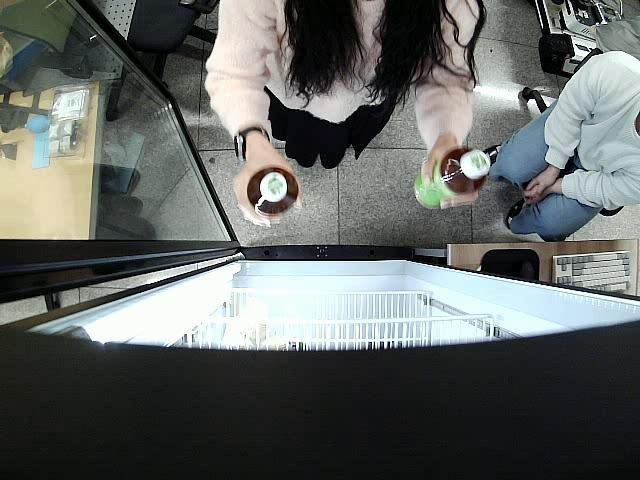19_17cha: (415, 149, 488, 210), (247, 167, 300, 222)
